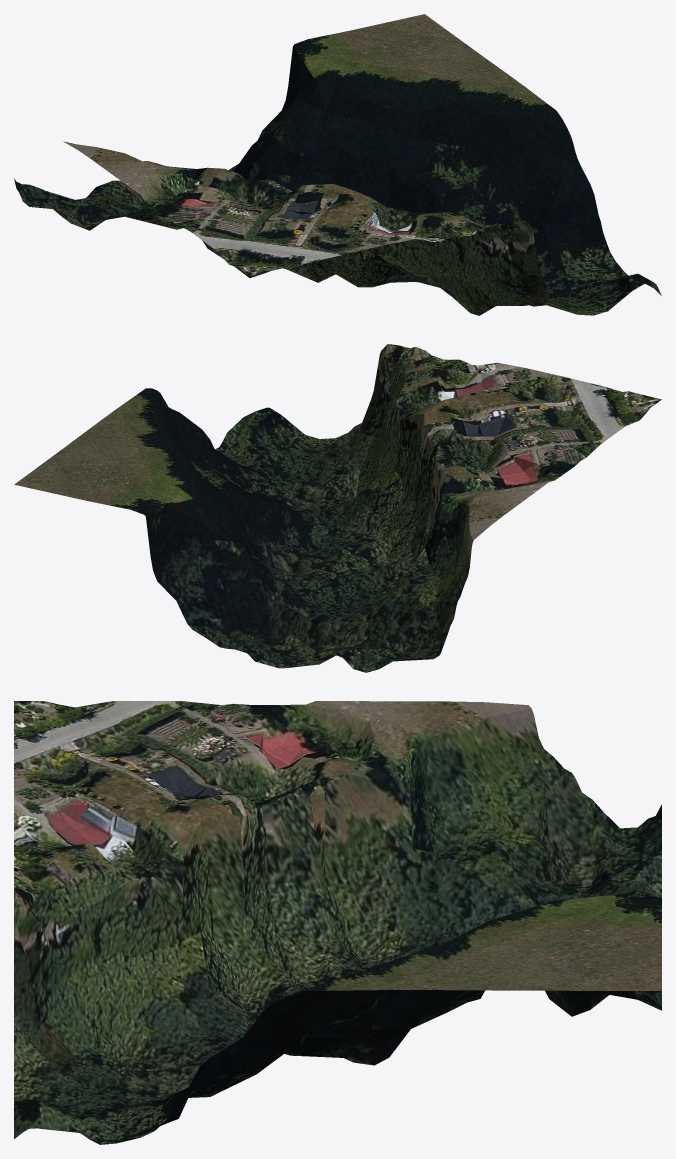
The model's file is map_15_8185_13788.dae.
3 views of the same model, one above another, from view 1: azimuth 30°, elevation 25°; view 2: azimuth 150°, elevation 25°; view 3: azimuth 270°, elevation 25° (orthographic). The views are drawn at different scales.
Visible parts, largest first — view 1: Ter0; view 2: Ter0; view 3: Ter0.
Boxes of the visible parts, x1,y1,x2,y2 form: Ter0: (14,14,661,315); Ter0: (14,344,661,672); Ter0: (14,701,661,1144).
Size of the model in its own units: 63.87 by 63.88 by 21.25.
3 materials, 3 textured.
